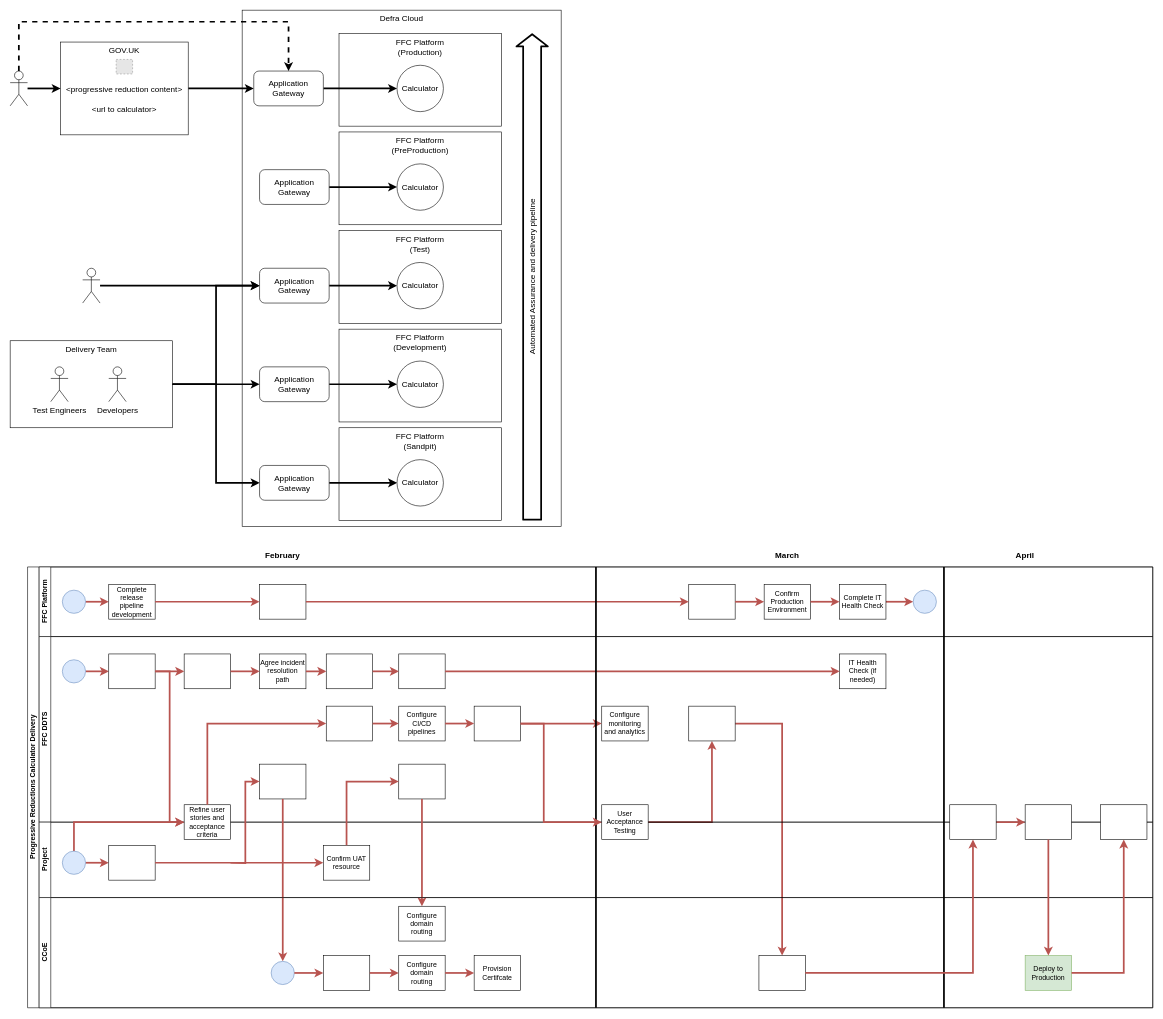
Some shapes in this 1163 by 1019 pixel diagram are drawn without their labels. Grey dashed boxes stand in for pictures. Here are the shapes that lost their labels. From the top down, the centre of each, then its label:
the point at 19,88: User
the point at 91,285: UAT resource
the point at 282,601: Production RFC Approval
the point at 711,601: Provision Production Environment
the point at 131,671: Agree development and test resource
the point at 207,671: Agree long term support resource
the point at 349,671: Agree Protective Monitoring
the point at 421,671: Agree Health Check requirement
the point at 349,723: Create source code repository
the point at 497,723: Develop and test calculator
the point at 711,723: Raise AZR for PreProd
the point at 282,781: Request domain
the point at 421,781: Request UAT connectivity
the point at 972,822: Raise RFC for Production
the point at 1048,822: RFC Approved
the point at 1123,822: Ongoing support
the point at 131,862: Agree service name
the point at 346,972: Provision domain
the point at 781,972: Deploy to PreProd
